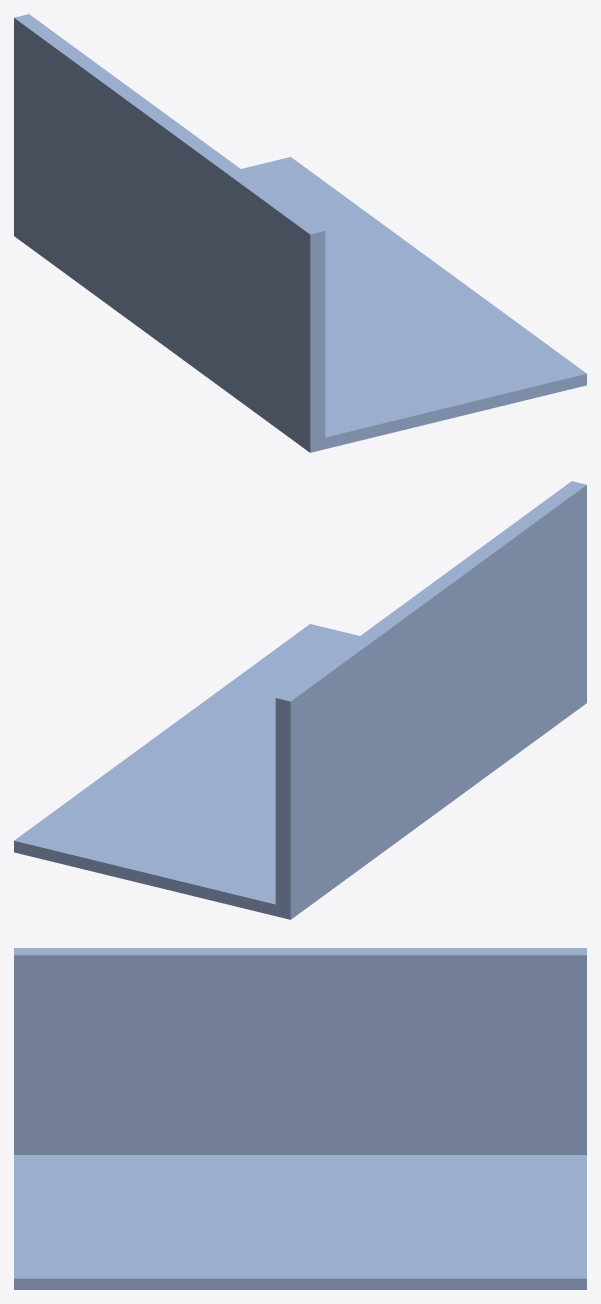
File: hallways.glb
3 renders of one model, top to bottom at view 1: azimuth 30°, elevation 25°; view 2: azimuth 150°, elevation 25°; view 3: azimuth 270°, elevation 25°, orthographic. The views are drawn at different scales.
Parts seen in each view (by area): view 1: Cube; view 2: Cube; view 3: Cube.
Boxes of the visible parts, left/top/right/bottom form: Cube: left=14, top=14, right=586, bottom=452; Cube: left=14, top=481, right=586, bottom=919; Cube: left=14, top=948, right=586, bottom=1289.
Bounding box in the file's own units: 0.5429 × 0.4092 × 1.01.
